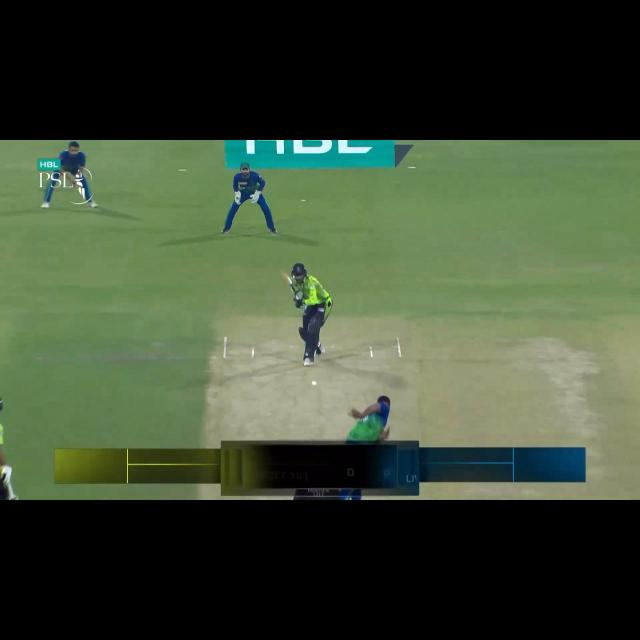bat: (279, 268, 298, 294)
toe: (281, 272, 289, 278)
